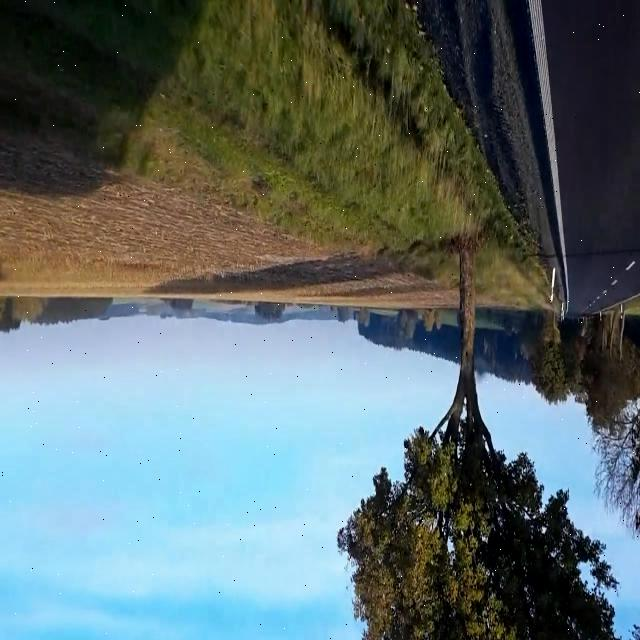lane: (528, 1, 566, 304), (627, 261, 636, 269)
road: (413, 1, 567, 295), (544, 3, 639, 316)
